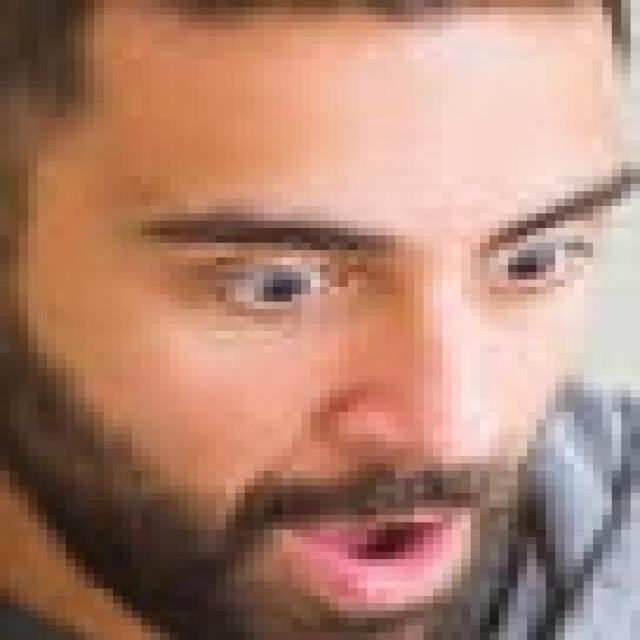Anxiety: (2, 0, 621, 633)
